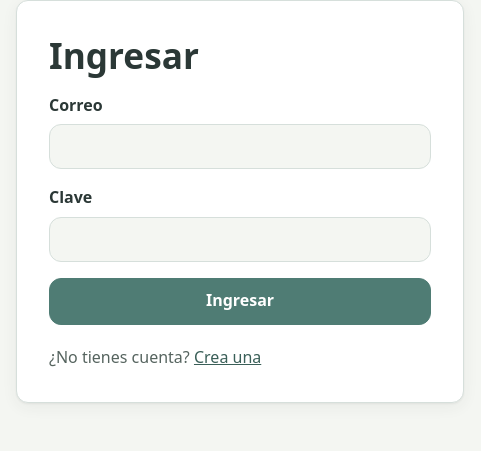
Test case: muestra en cada campo los errores de validación del backend
Type "ana@test.local" into the field labelled "Correo" at (240, 147), box x1=49 y1=124 x2=431 y2=169
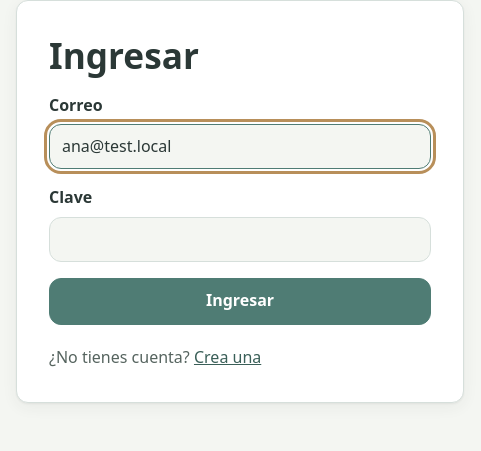
Type "Clave!" into the password field labelled "Clave" at (240, 239), box x1=49 y1=217 x2=431 y2=262
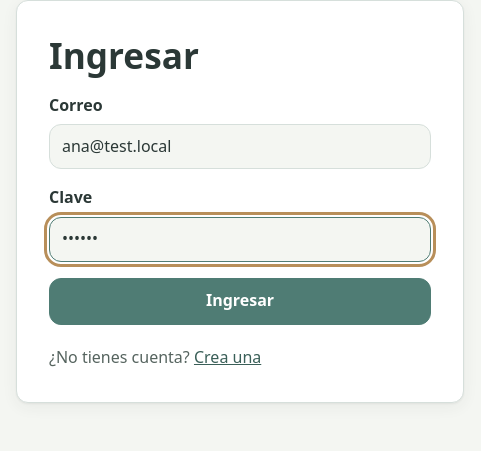
Click the button "Ingresar" at (240, 301), box x1=49 y1=278 x2=431 y2=325
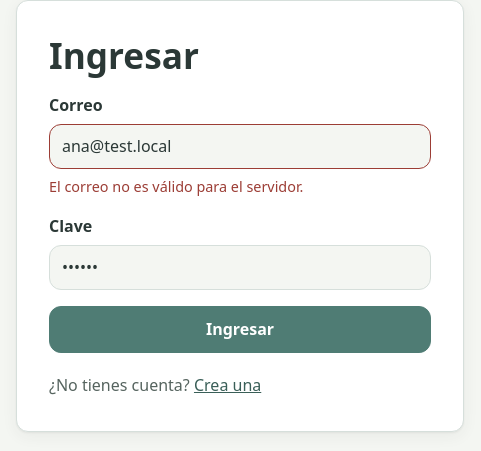
Expected: the text "El correo no es válido para el servidor." is shown, x1=49 y1=177 x2=303 y2=196
